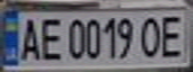0: (63, 15, 84, 61), (84, 15, 103, 60)
1: (100, 15, 118, 60)
9: (115, 13, 139, 60)
A: (15, 15, 42, 63)
E: (157, 11, 187, 60), (36, 15, 63, 62)
O: (136, 14, 166, 58)
